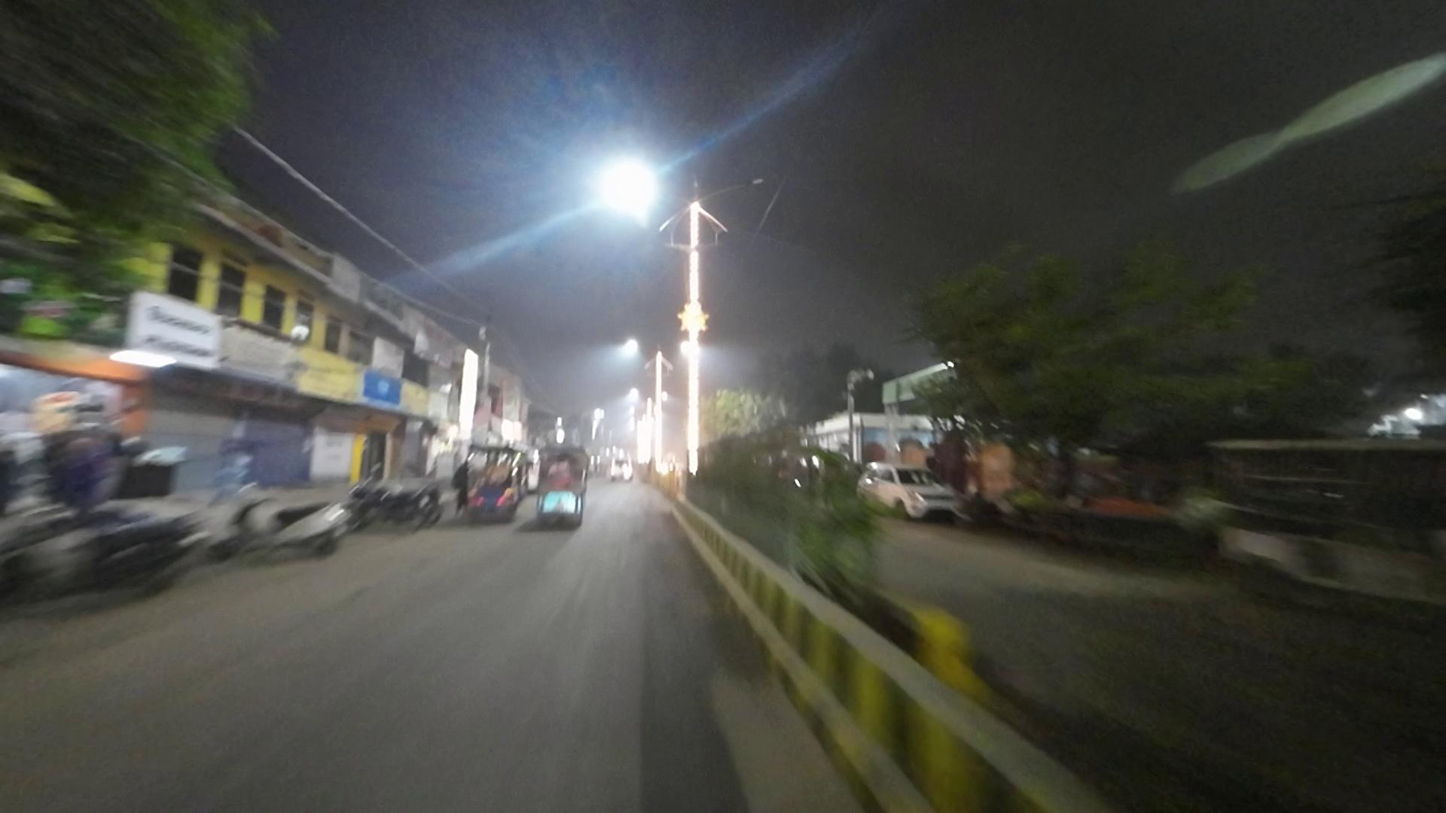streetlight: (706, 175, 767, 195)
